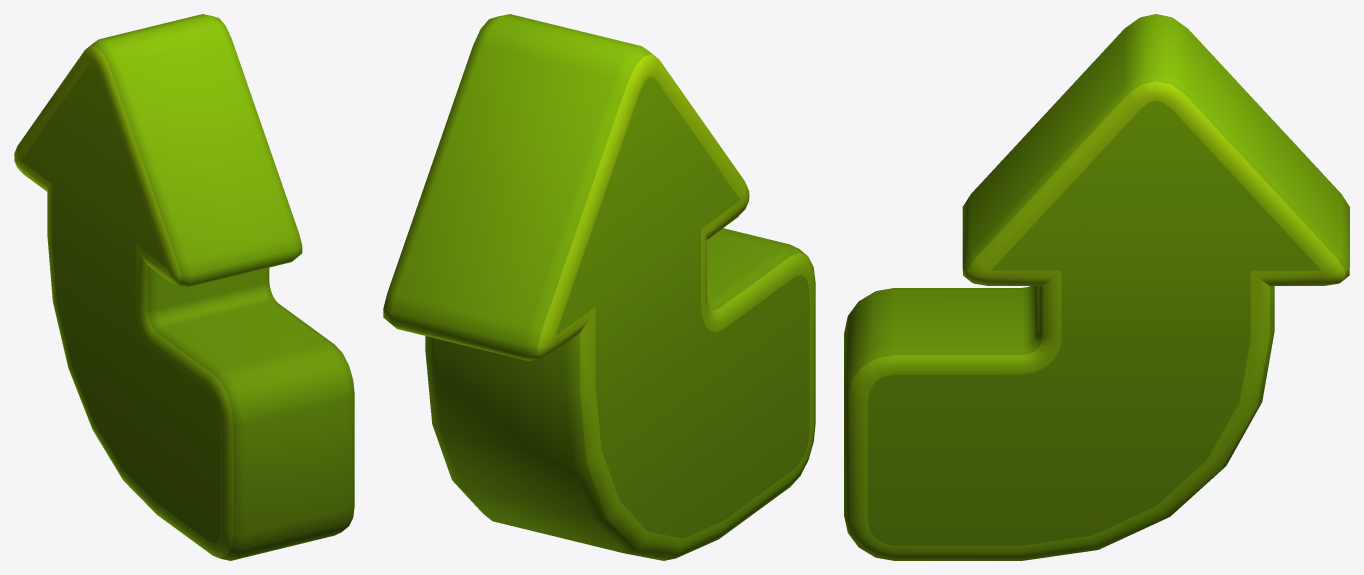
The model's file is Angled_Arrow_V1_00.fbx.
The picture shows the model from 3 angles, left to right: view 1: azimuth 30°, elevation 25°; view 2: azimuth 150°, elevation 25°; view 3: azimuth 270°, elevation 25°; orthographic projection. The views are drawn at different scales.
Parts seen in each view (by area): view 1: Angled_Arrow_V1_00; view 2: Angled_Arrow_V1_00; view 3: Angled_Arrow_V1_00.
Part boxes in pixels (x1,y1,x2,y2): Angled_Arrow_V1_00: (14, 14, 354, 560); Angled_Arrow_V1_00: (383, 14, 815, 560); Angled_Arrow_V1_00: (844, 14, 1349, 560).
Size of the model in its own units: 12.47 by 39.84 by 37.38.
